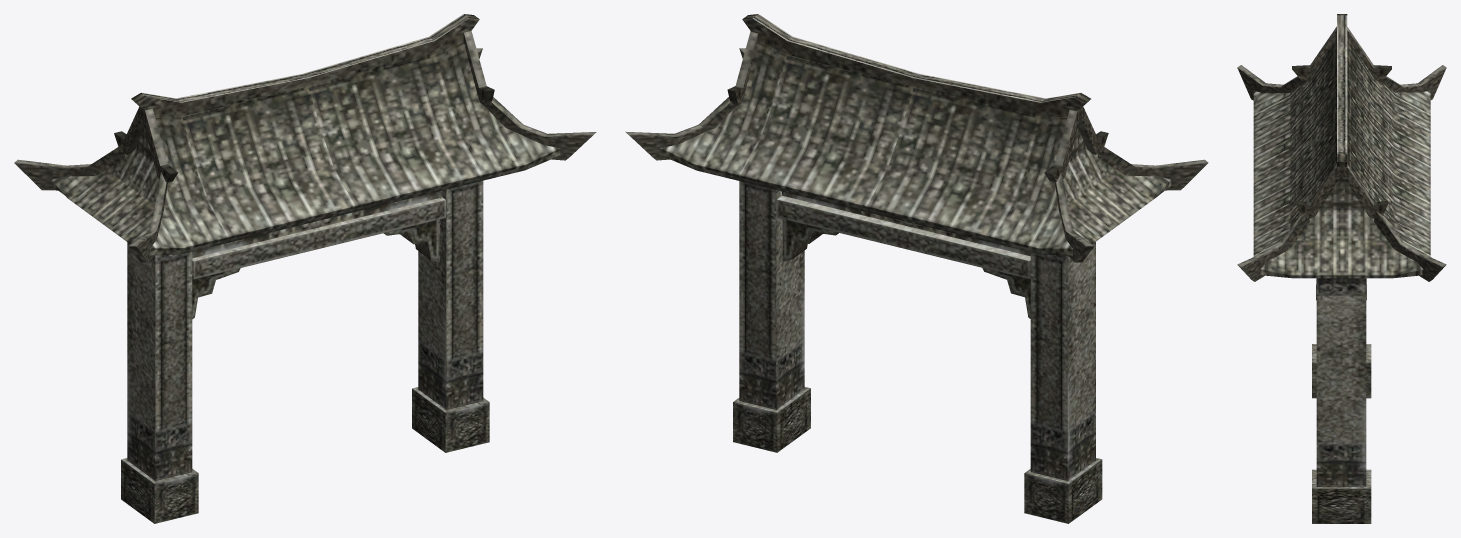
The model's file is general_obj_stonedoor.fbx.
3 views of the same model, side by side, from view 1: azimuth 30°, elevation 25°; view 2: azimuth 150°, elevation 25°; view 3: azimuth 270°, elevation 25° (orthographic). The views are drawn at different scales.
Parts seen in each view (by area): view 1: Object05; view 2: Object05; view 3: Object05.
Boxes of the visible parts, x1,y1,x2,y2 form: Object05: (14,14,596,523); Object05: (625,14,1208,523); Object05: (1237,14,1446,523).
Bounding box in the file's own units: 11.16 × 9.44 × 4.89.
